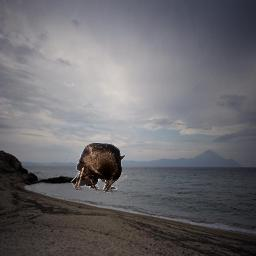Crow: (70, 142, 127, 193)
